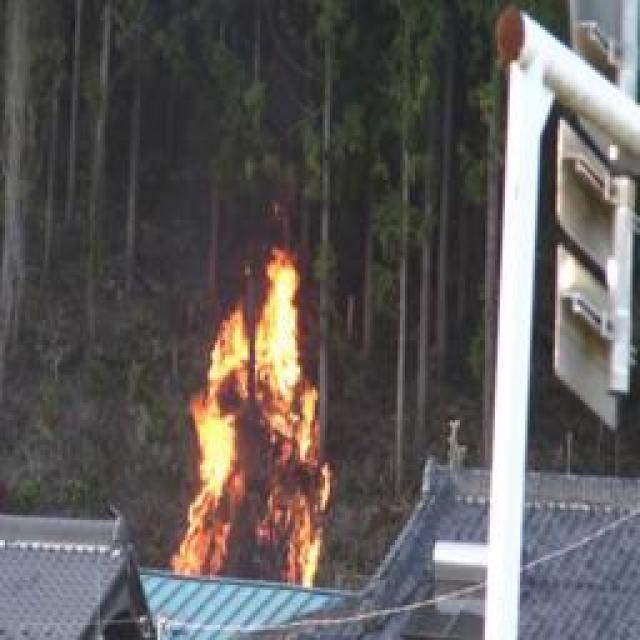Fire: (170, 251, 331, 592)
